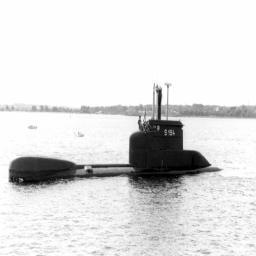submarine: (8, 71, 233, 181)
